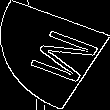M_SE: (12, 23, 98, 87)
